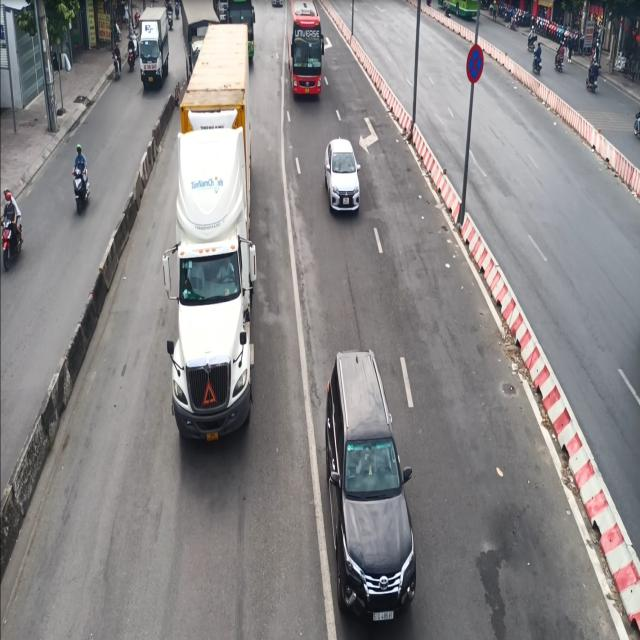bus: (286, 0, 332, 114)
car: (317, 344, 416, 629), (324, 130, 362, 223)
truck: (161, 22, 276, 478), (134, 5, 169, 92)
